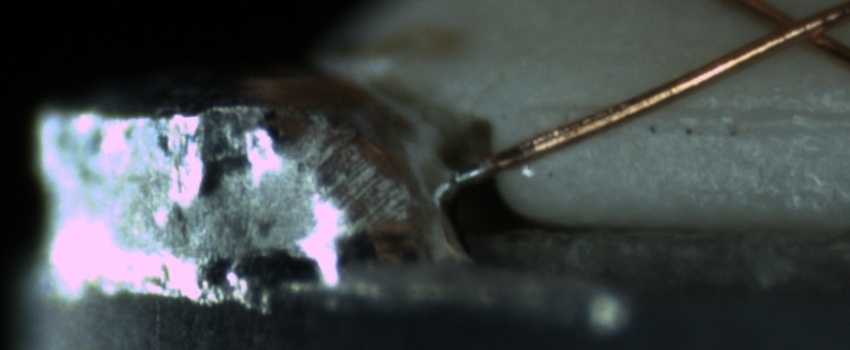CL: (741, 1, 843, 58)
DL: (539, 78, 850, 146)
TS: (450, 156, 490, 184)
